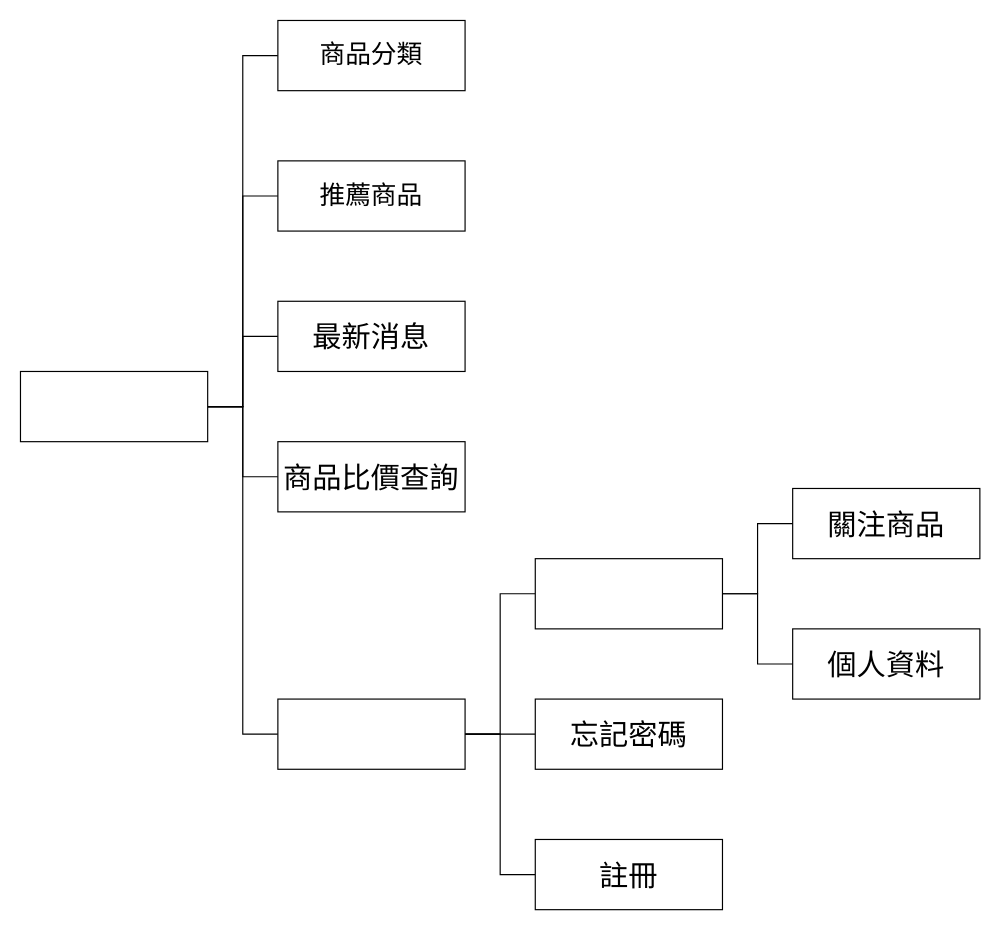
Image size: 1000x930. Some labels were removed from this diagram. Each missing label, with the centre of its shape:
"登入" goes at [628,593].
"登入會員" goes at [371,733].
"網頁前端" goes at [113,406].
